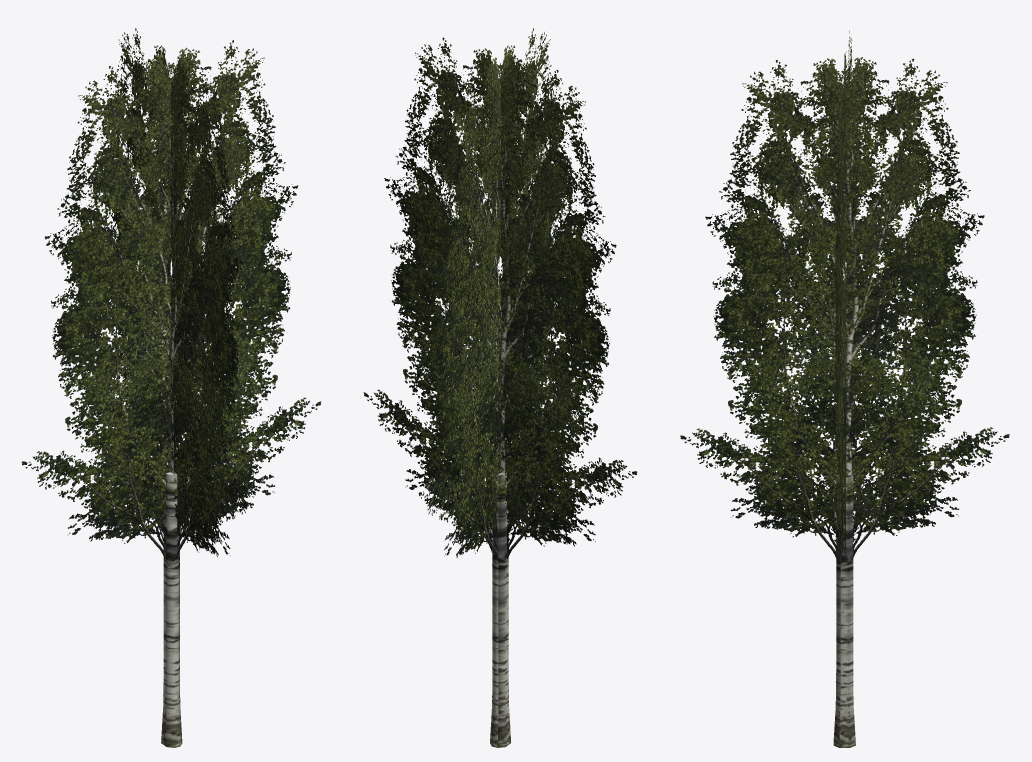
The model's file is SM_Tree_Leaves_11.fbx.
The picture shows the model from 3 angles, left to right: view 1: azimuth 30°, elevation 25°; view 2: azimuth 150°, elevation 25°; view 3: azimuth 270°, elevation 25°; orthographic projection.
Visible parts, largest first — view 1: SM_Tree_Leaves_11.001, SM_Tree_Leaves_11; view 2: SM_Tree_Leaves_11.001, SM_Tree_Leaves_11; view 3: SM_Tree_Leaves_11.001, SM_Tree_Leaves_11.
Boxes of the visible parts, x1,y1,x2,y2 form: SM_Tree_Leaves_11.001: [21, 28, 321, 558]; SM_Tree_Leaves_11: [161, 472, 182, 747]; SM_Tree_Leaves_11.001: [363, 28, 637, 559]; SM_Tree_Leaves_11: [490, 472, 510, 747]; SM_Tree_Leaves_11.001: [680, 31, 1009, 564]; SM_Tree_Leaves_11: [833, 474, 855, 747].
Size of the model in its own units: 718 by 1611 by 720.
